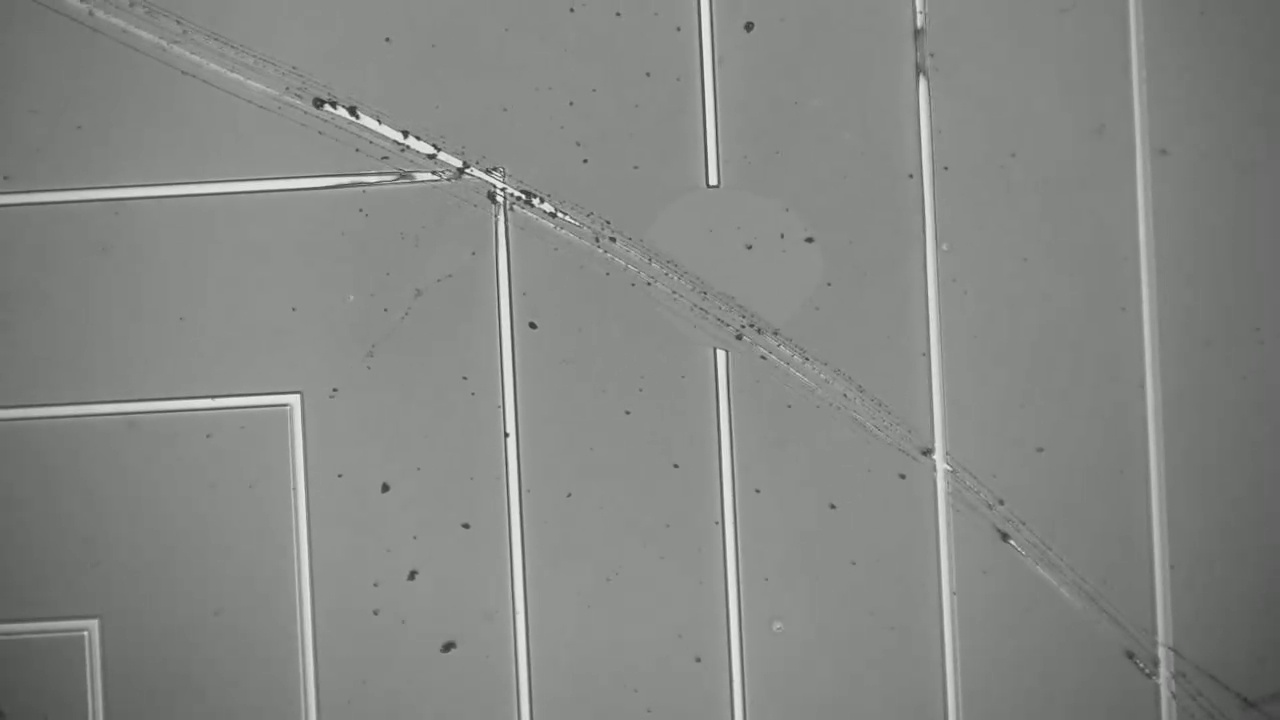gray_line: (895, 12, 943, 110)
open: (665, 145, 750, 385)
scratch: (541, 200, 1207, 710), (37, 0, 397, 147)
